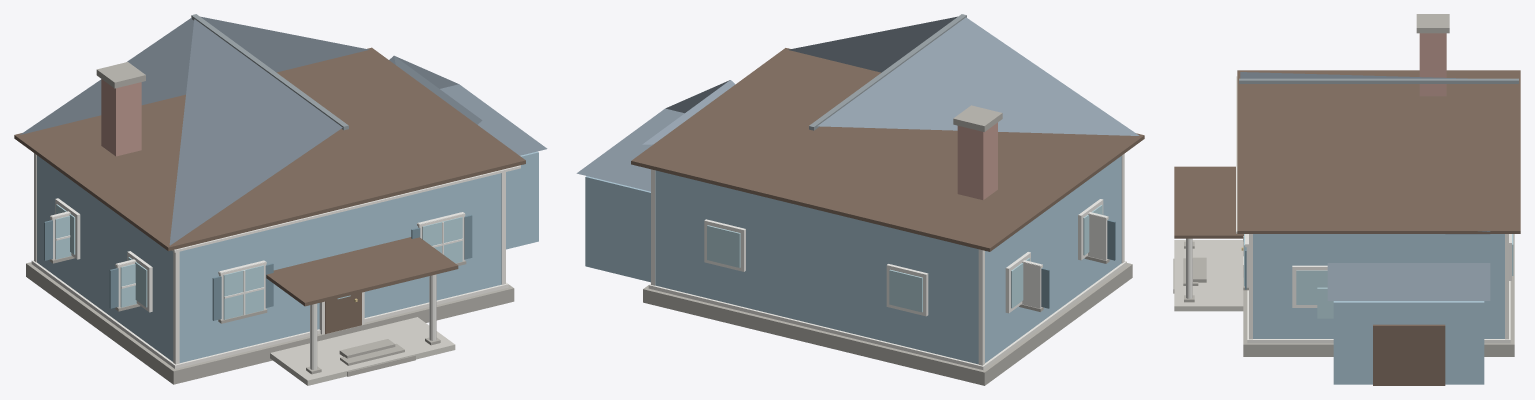
Rendered from house_blue.glb.
3 views of the same model, side by side, from view 1: azimuth 30°, elevation 25°; view 2: azimuth 150°, elevation 25°; view 3: azimuth 270°, elevation 25° (orthographic). The views are drawn at different scales.
Parts seen in each view (by area): view 1: p004, p000, p003, p007, p001, p006, p073, p063, p072, p002, p020, p071 (+15 smaller); view 2: p000, p004, p003, p001, p072, p073, p063, p002, p060, p062, p005, p064 (+7 smaller); view 3: p004, p000, p072, p073, p007, p074, p006, p001, p005, p063, p058, p003 (+9 smaller).
Boxes of the visible parts, x1,y1,x2,y2 form: p004: [14, 47, 525, 251]; p000: [37, 155, 501, 362]; p003: [20, 16, 368, 245]; p007: [266, 237, 458, 306]; p001: [26, 262, 514, 384]; p006: [270, 317, 455, 385]; p073: [389, 55, 547, 155]; p063: [101, 79, 141, 156]; p072: [506, 151, 538, 249]; p002: [31, 260, 508, 368]; p020: [223, 265, 263, 319]; p071: [172, 165, 520, 252]; p000: [655, 156, 1121, 364]; p004: [631, 48, 1144, 251]; p003: [788, 16, 1139, 135]; p001: [643, 263, 1132, 385]; p072: [585, 176, 650, 282]; p073: [576, 80, 735, 191]; p063: [957, 122, 997, 200]; p002: [648, 261, 1126, 369]; p060: [889, 269, 922, 312]; p062: [707, 225, 740, 267]; p005: [809, 14, 966, 130]; p064: [953, 105, 1002, 131]; p004: [1237, 70, 1520, 233]; p000: [1253, 234, 1504, 338]; p072: [1333, 301, 1484, 384]; p073: [1327, 231, 1490, 300]; p007: [1174, 166, 1243, 238]; p074: [1373, 324, 1445, 385]; p006: [1174, 240, 1243, 311]; p001: [1243, 234, 1514, 356]; p005: [1239, 78, 1518, 83]; p063: [1419, 33, 1446, 96]; p058: [1296, 270, 1327, 304]; p003: [1240, 72, 1467, 78].
Bounding box in the file's own units: 15.61 × 7.56 × 11.52.
